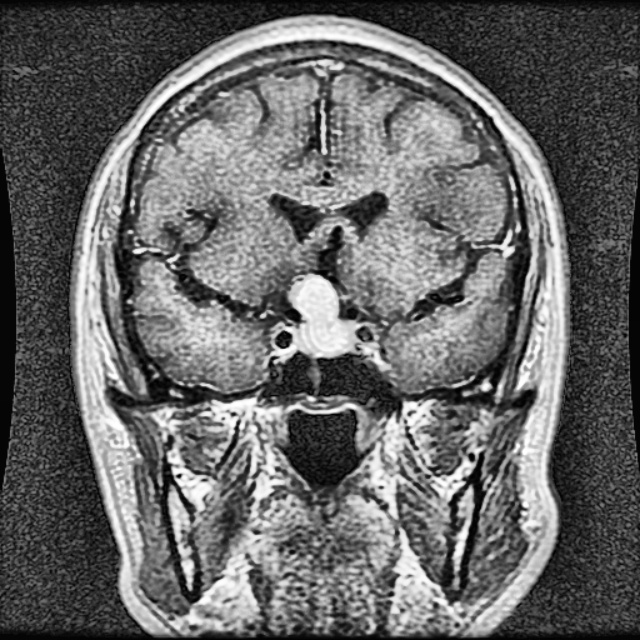Pituitary: (293, 275, 354, 357)
